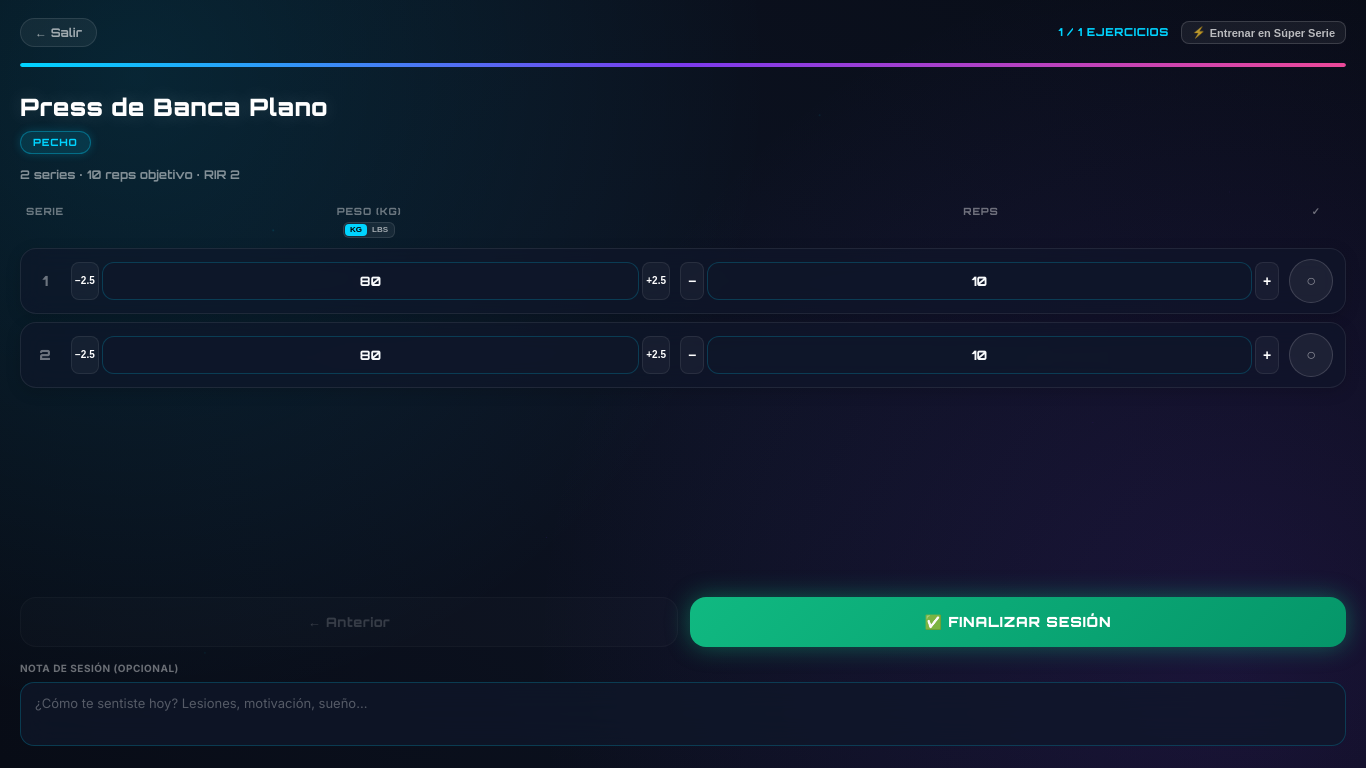
Test case: ActiveSession - Weight Stepper & KG/LBS Capture Unit Tests › 2. Micro-botones Stepper de Peso (+/-) y disponibilidad del teclado › incrementa y decrementa en pasos de 2.5 kg con un solo toque sin abrir teclado
// Si el input está vacío, al presionar [+2.5] parte del peso sugerido (80 kg) y pasa a 82.5 kg
Click the button named "Aumentar peso serie 1" at (656,281), box [642,262,670,300]
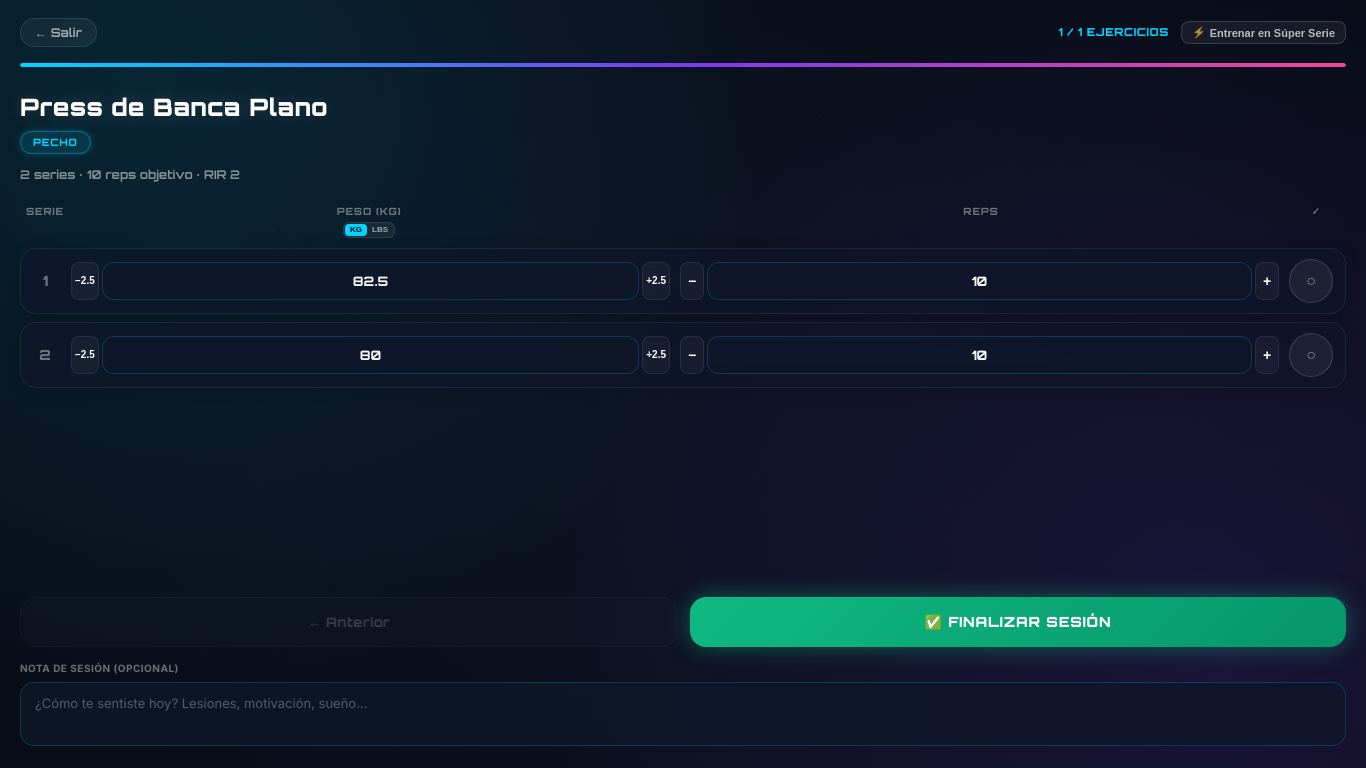
Expected: the field named "Peso serie 1" holds "82.5", [102,262,639,300]
Click the button named "Aumentar peso serie 1" at (656,281), box [642,262,670,300]
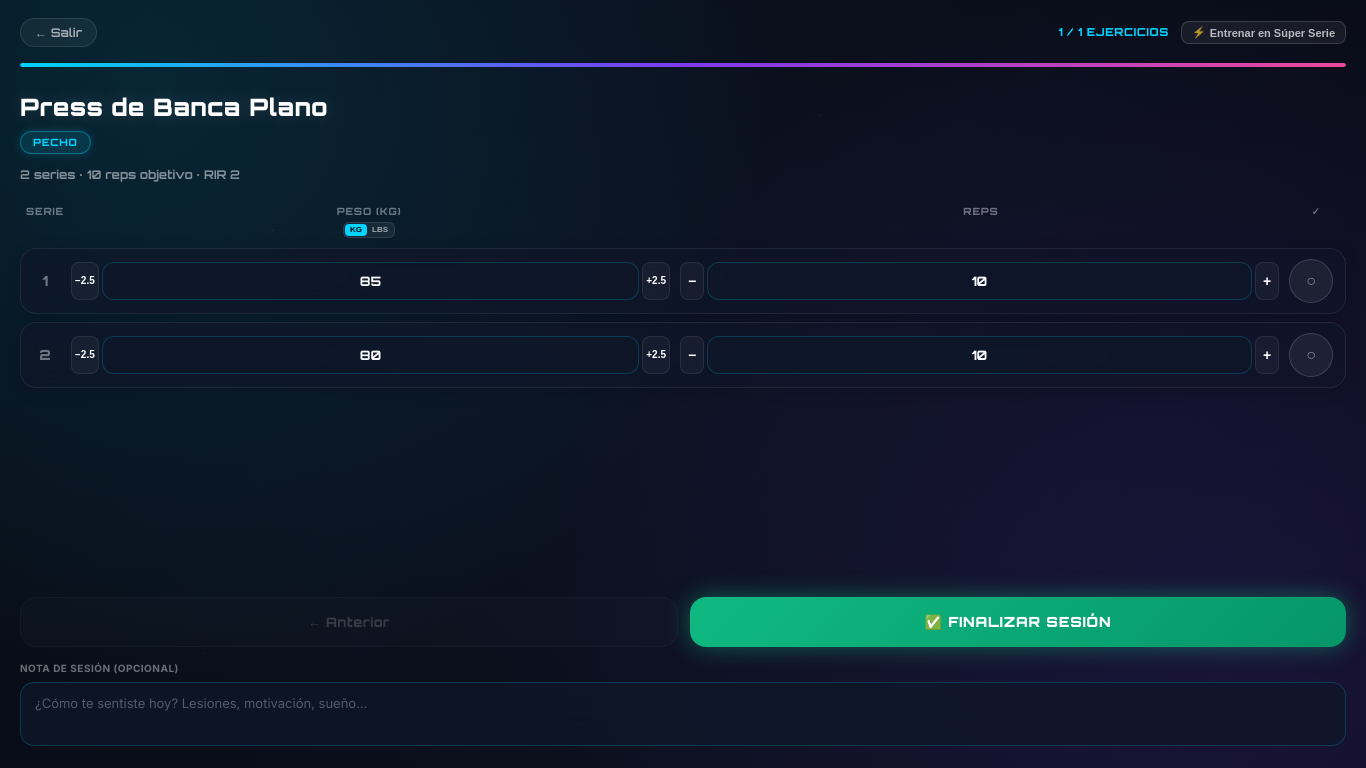
Expected: the field named "Peso serie 1" holds "85", [102,262,639,300]
// Al presionar [-2.5] baja a 82.5 kg
Click the button named "Reducir peso serie 1" at (85,281), box [71,262,99,300]
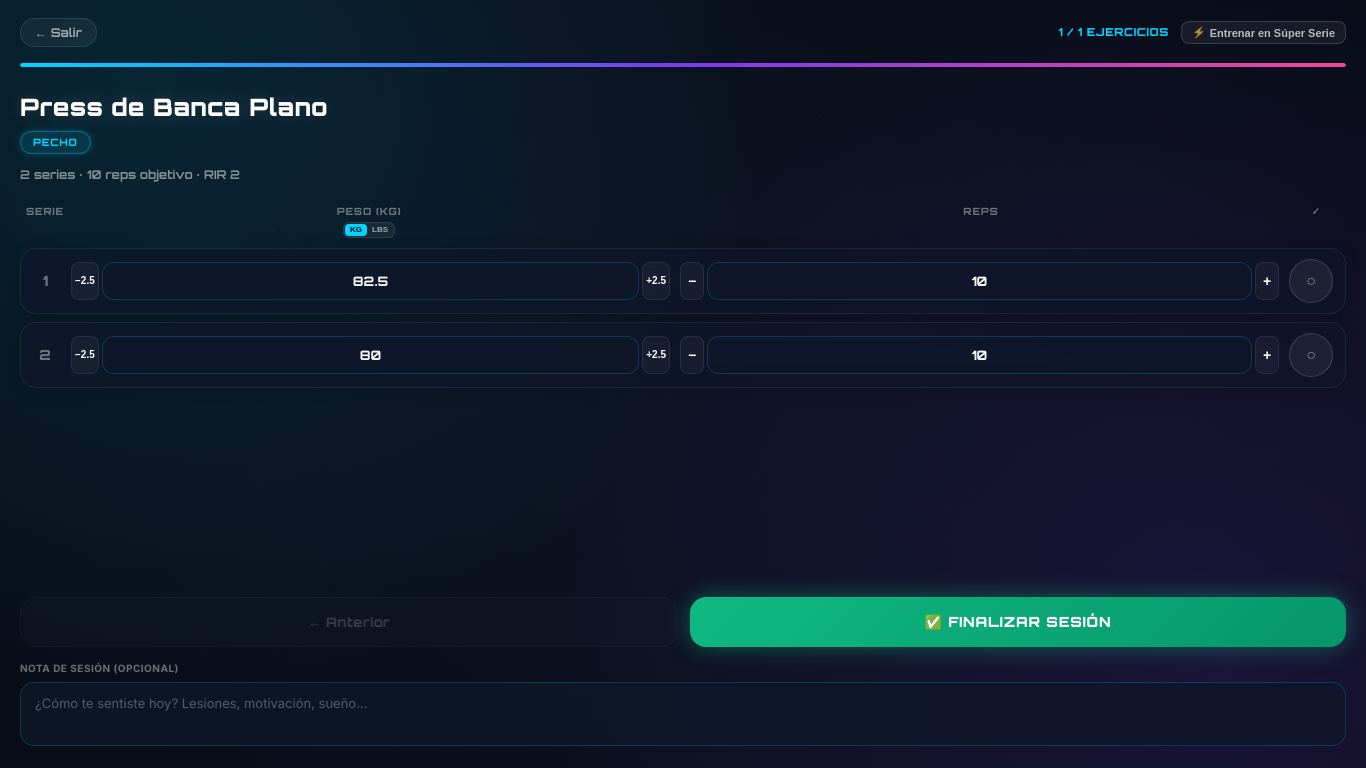
Expected: the field named "Peso serie 1" holds "82.5", [102,262,639,300]
